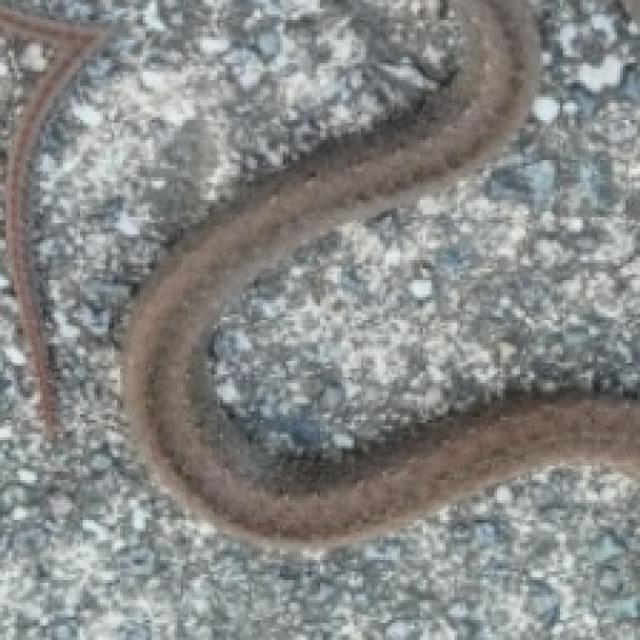reinhardts lined snake: (124, 0, 640, 548), (122, 0, 539, 542), (0, 6, 108, 438)
